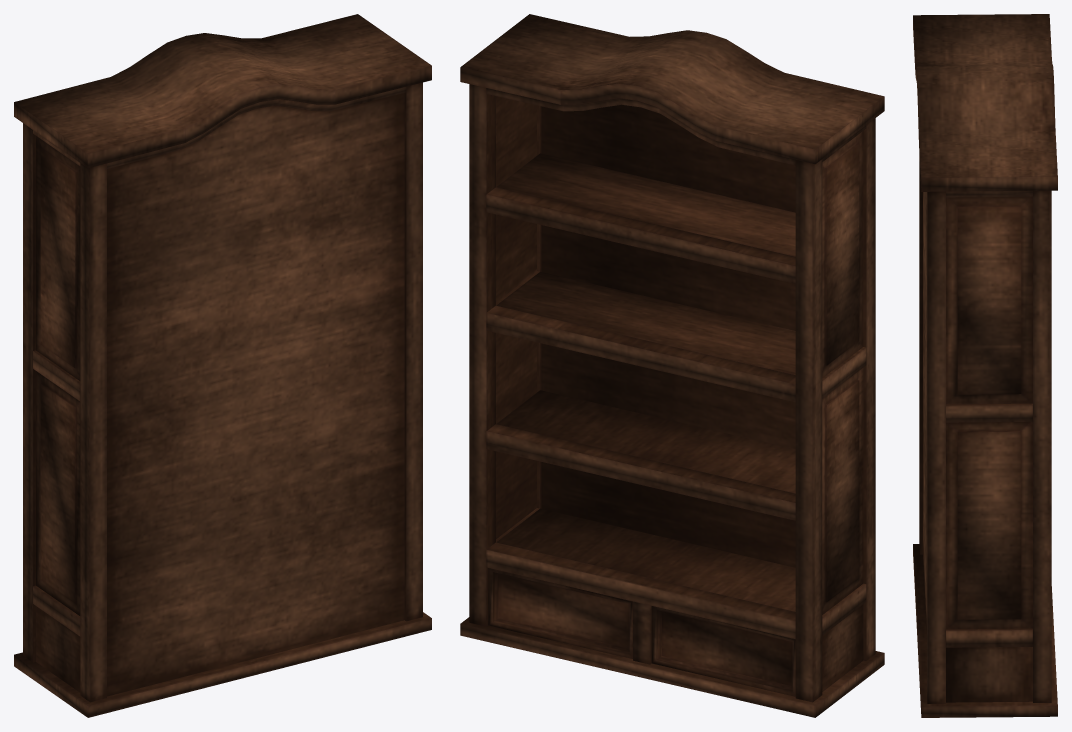
File: Book_Shelf.fbx
3 views of the same model, side by side, from view 1: azimuth 30°, elevation 25°; view 2: azimuth 150°, elevation 25°; view 3: azimuth 270°, elevation 25° (orthographic). The views are drawn at different scales.
Visible parts, largest first — view 1: Book_Shelf; view 2: Book_Shelf; view 3: Book_Shelf.
Part boxes in pixels (x1,y1,x2,y2): Book_Shelf: (14, 14, 431, 717); Book_Shelf: (460, 14, 884, 717); Book_Shelf: (913, 14, 1057, 717).
Bounding box in the file's own units: 189 × 302 × 70.55.
Materials: 1 (1 with a texture image).
